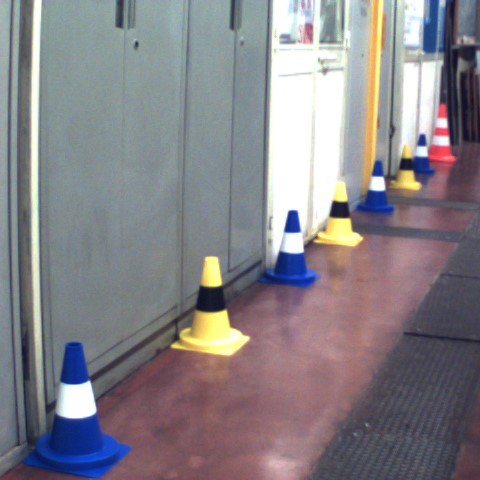cone: (25, 341, 128, 477), (261, 208, 317, 288), (359, 161, 393, 214), (415, 132, 431, 174)
